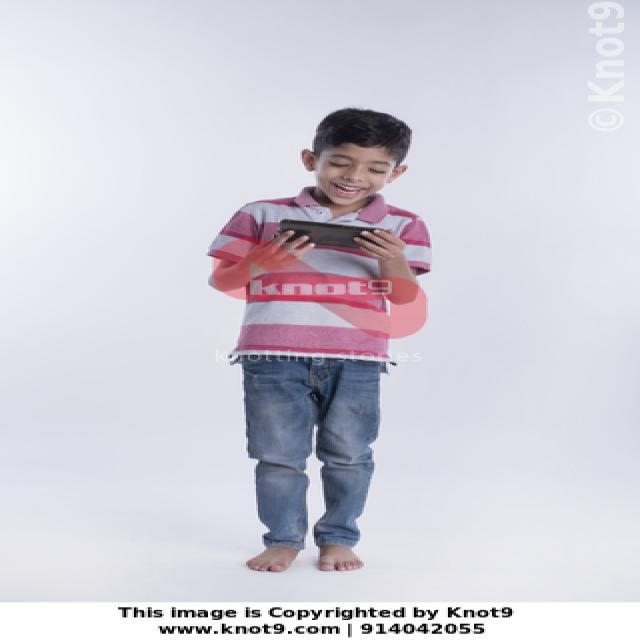child: (200, 96, 450, 584)
